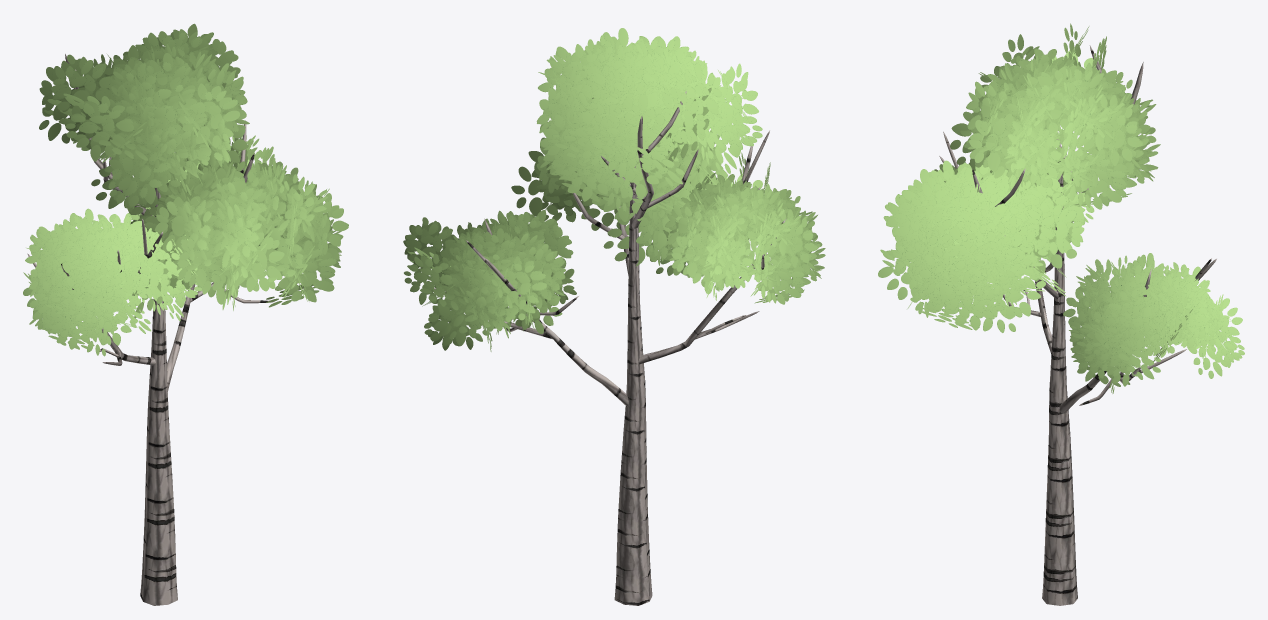
Rendered from BirchTree_5.glb.
3 renders of one model, left to right at view 1: azimuth 30°, elevation 25°; view 2: azimuth 150°, elevation 25°; view 3: azimuth 270°, elevation 25°, orthographic. The views are drawn at different scales.
Parts seen in each view (by area): view 1: BirchTree_5; view 2: BirchTree_5; view 3: BirchTree_5.
Part boxes in pixels (left/top/right/bottom): BirchTree_5: left=23, top=23, right=348, bottom=605; BirchTree_5: left=403, top=28, right=825, bottom=605; BirchTree_5: left=878, top=23, right=1244, bottom=605.
Size of the model in its own units: 3.58 by 5.52 by 3.51.
2 materials, 2 textured.
